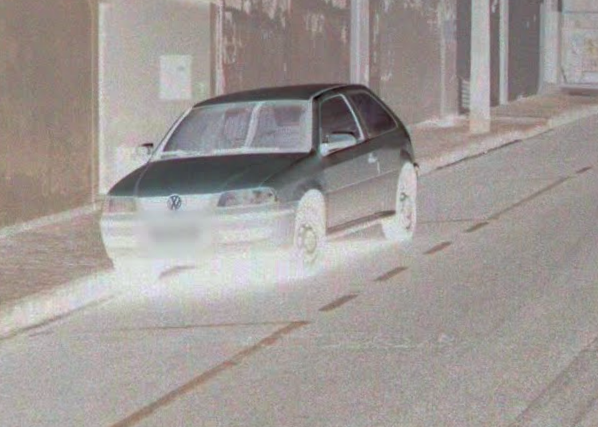car: (93, 75, 437, 289)
